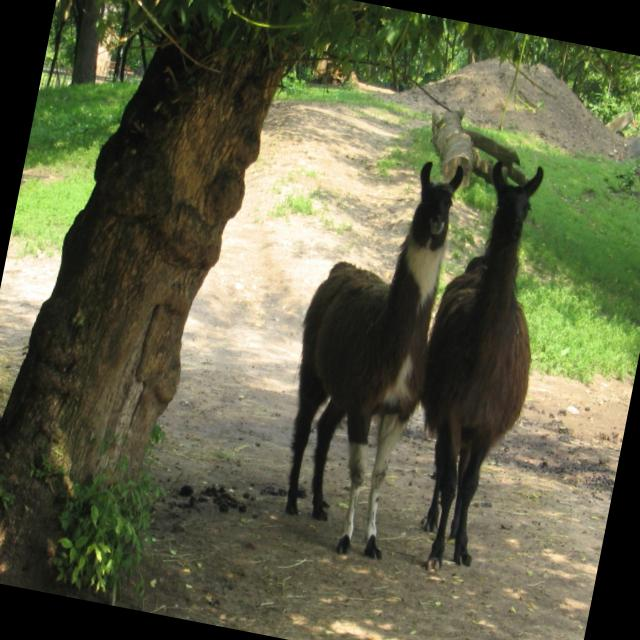alpaca: (260, 140, 468, 566), (387, 152, 569, 586)
